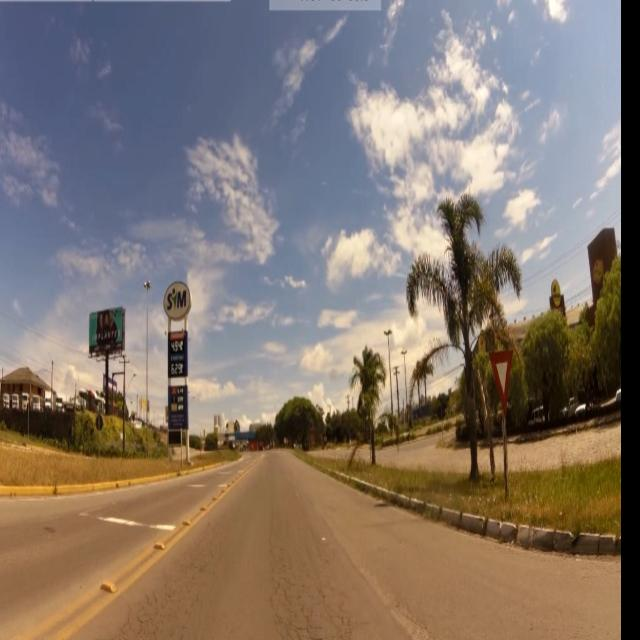R-2: (485, 346, 521, 419)
